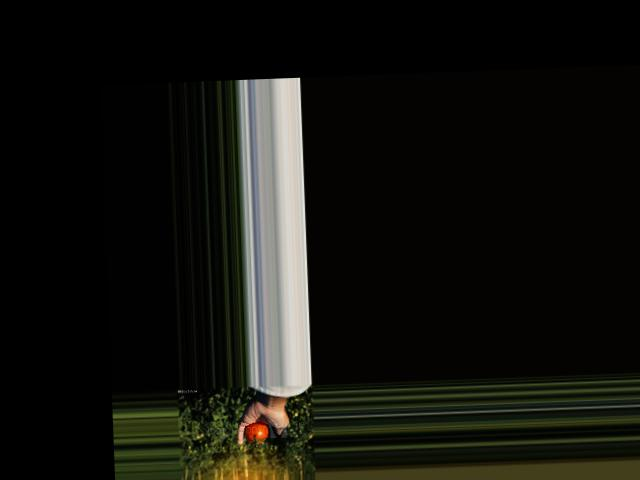tomato: (243, 422, 267, 444)
